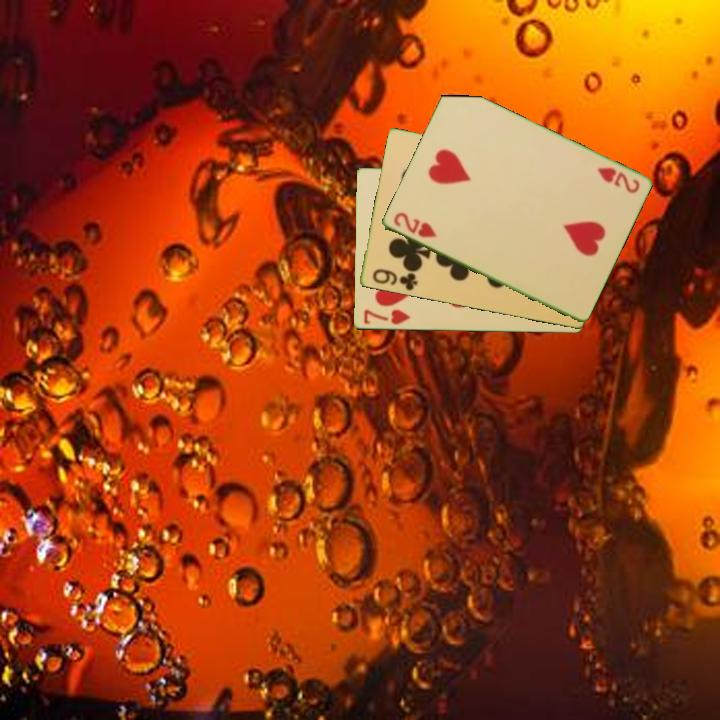2h: (593, 163, 642, 197), (390, 209, 440, 241)
7h: (360, 306, 413, 328)
9c: (368, 266, 420, 293)
